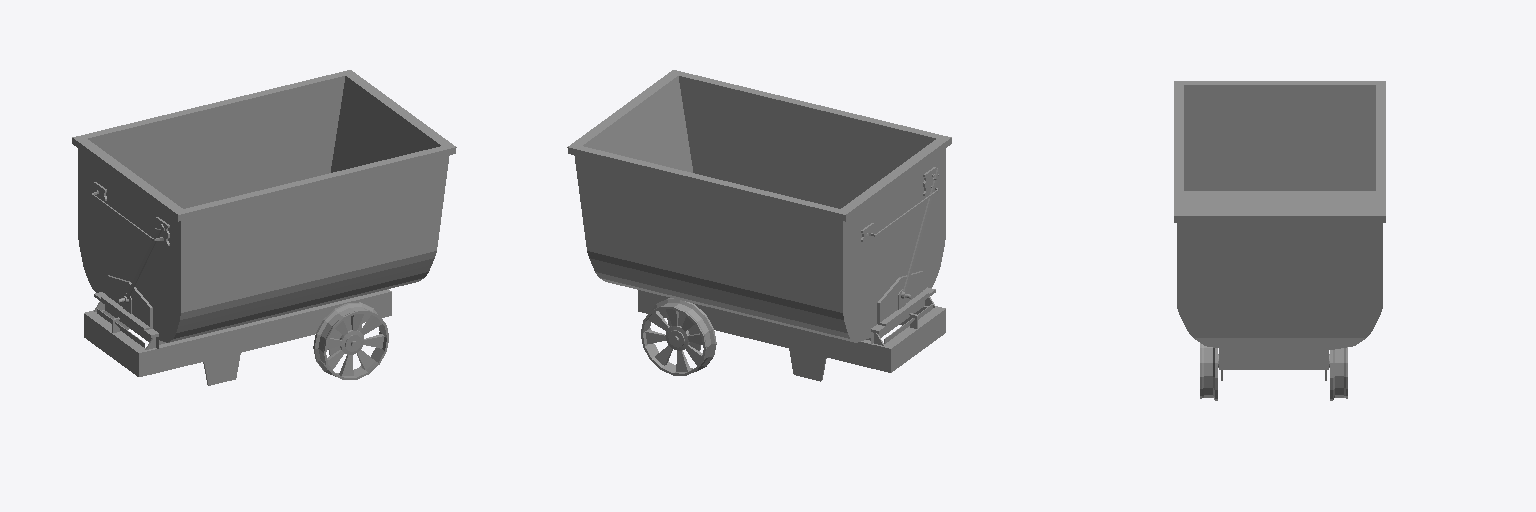
Rendered from Cart.obj.
3 views of the same model, side by side, from view 1: azimuth 30°, elevation 25°; view 2: azimuth 150°, elevation 25°; view 3: azimuth 270°, elevation 25° (orthographic).
Visible parts, largest first — view 1: Cart, Cart_Undercarriage, Cart_Wheel; view 2: Cart, Cart_Undercarriage, Cart_Wheel; view 3: Cart, Cart_Undercarriage, Cart_Wheel.
Part boxes in pixels (left/top/right/bottom): Cart: left=72, top=70, right=456, bottom=342; Cart_Undercarriage: left=84, top=224, right=391, bottom=385; Cart_Wheel: left=313, top=302, right=388, bottom=379; Cart: left=567, top=70, right=951, bottom=342; Cart_Undercarriage: left=638, top=168, right=945, bottom=381; Cart_Wheel: left=641, top=298, right=716, bottom=375; Cart: left=1174, top=81, right=1385, bottom=353; Cart_Undercarriage: left=1219, top=349, right=1328, bottom=380; Cart_Wheel: left=1200, top=343, right=1347, bottom=400.
Bounding box in the file's own units: 1.82 × 1.31 × 1.13.